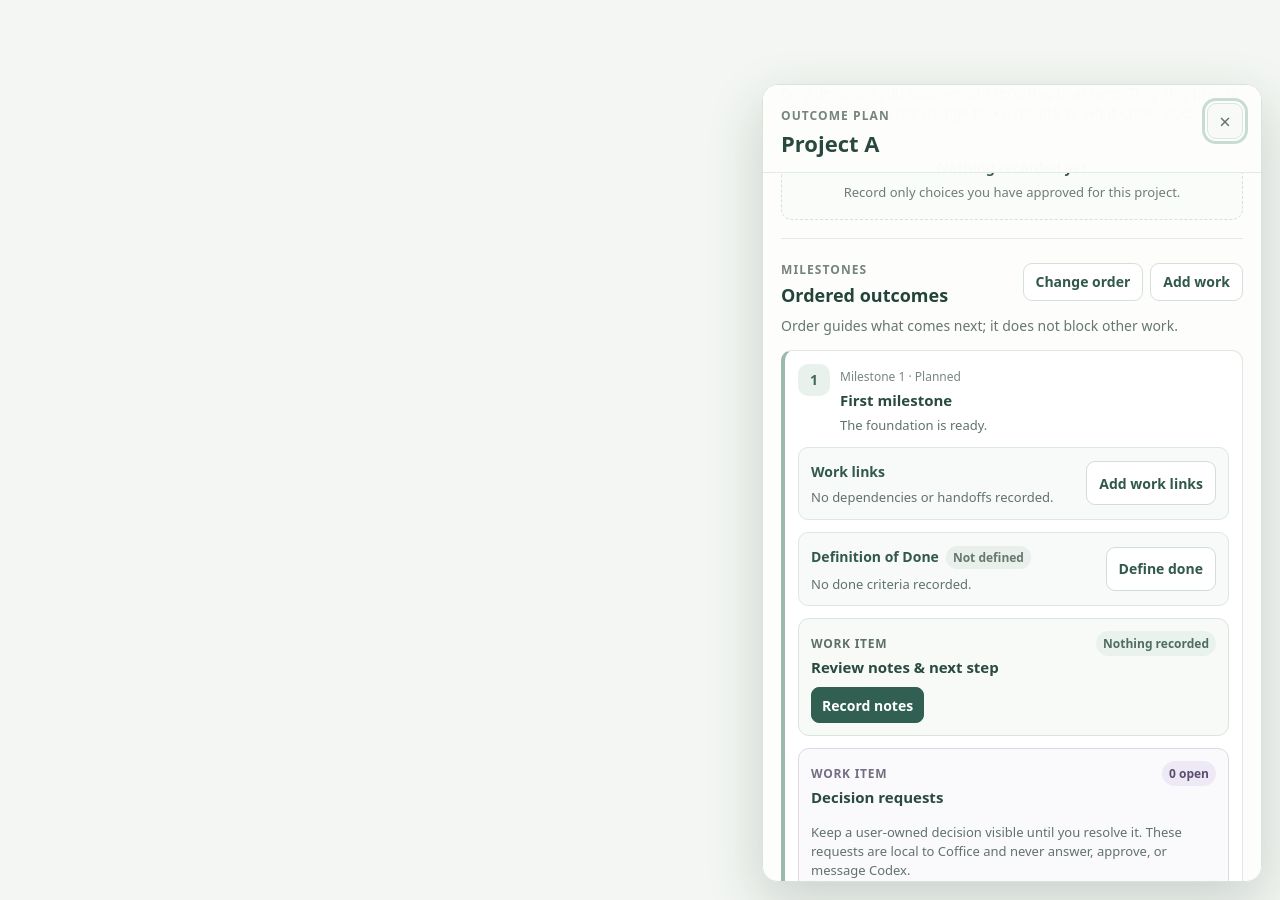
WorkPlannerPanel › preserves a work-link draft across a concurrent relationship conflict
(page scrolled)
What coordinates should you click on to do the following:
click the button "Add work links"
I would click on:
 (1151, 483)
Its box is 1086,461 -> 1216,505.
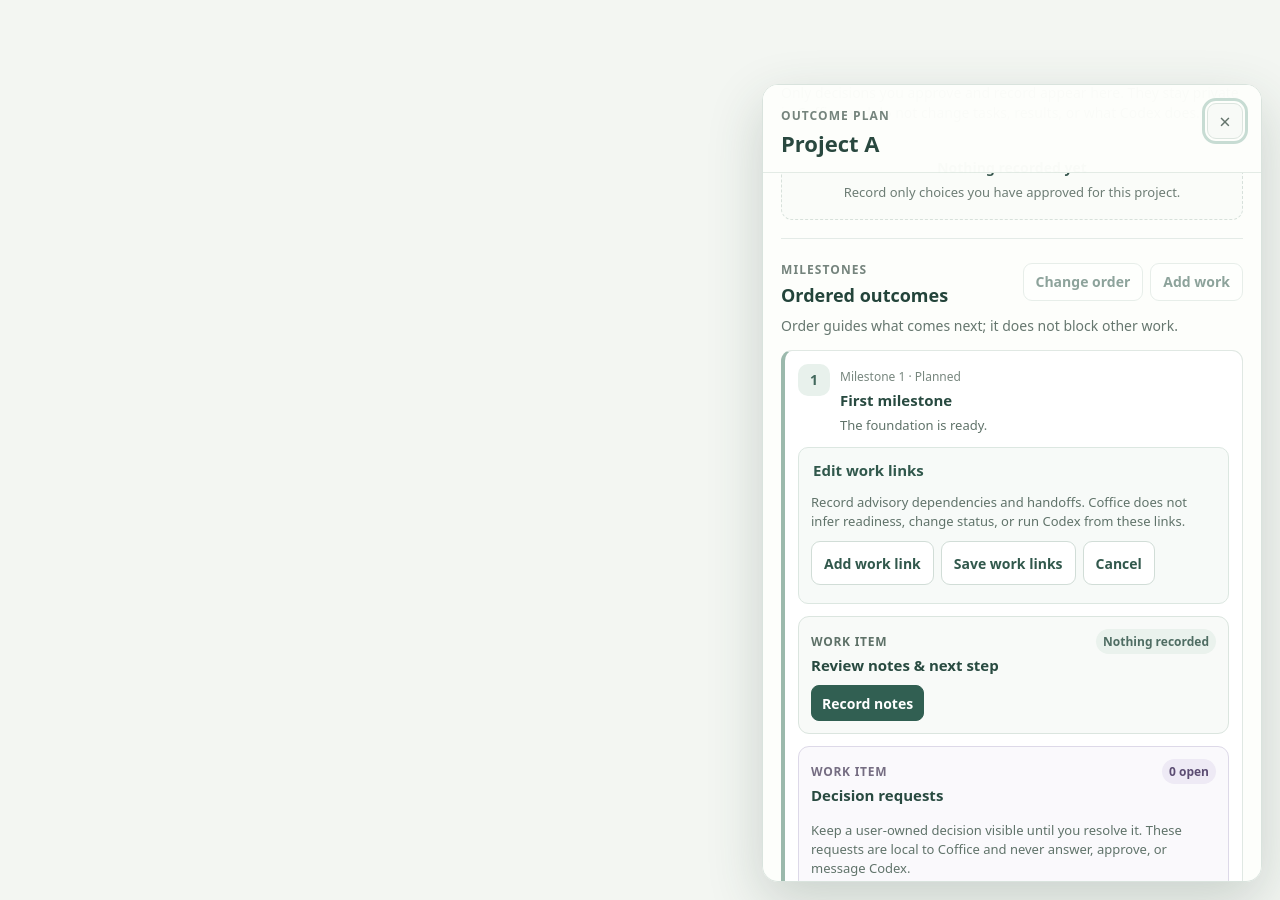
What coordinates should you click on to do the following:
click the button "Add work link"
I would click on:
 (872, 563)
Its box is 811,541 -> 934,585.
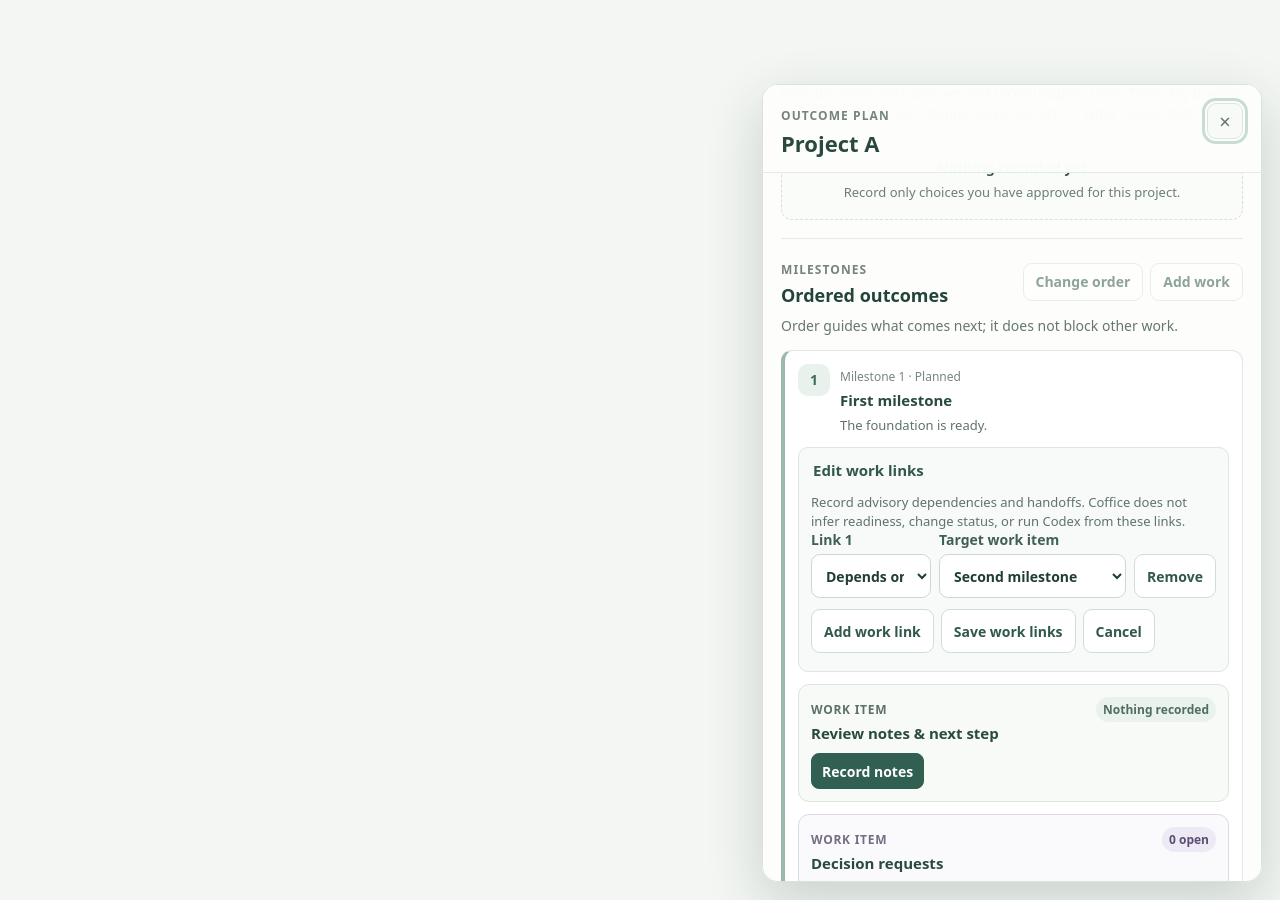
What coordinates should you click on to do the following:
click the button "Save work links"
I would click on:
 (1008, 631)
Its box is 941,609 -> 1076,653.
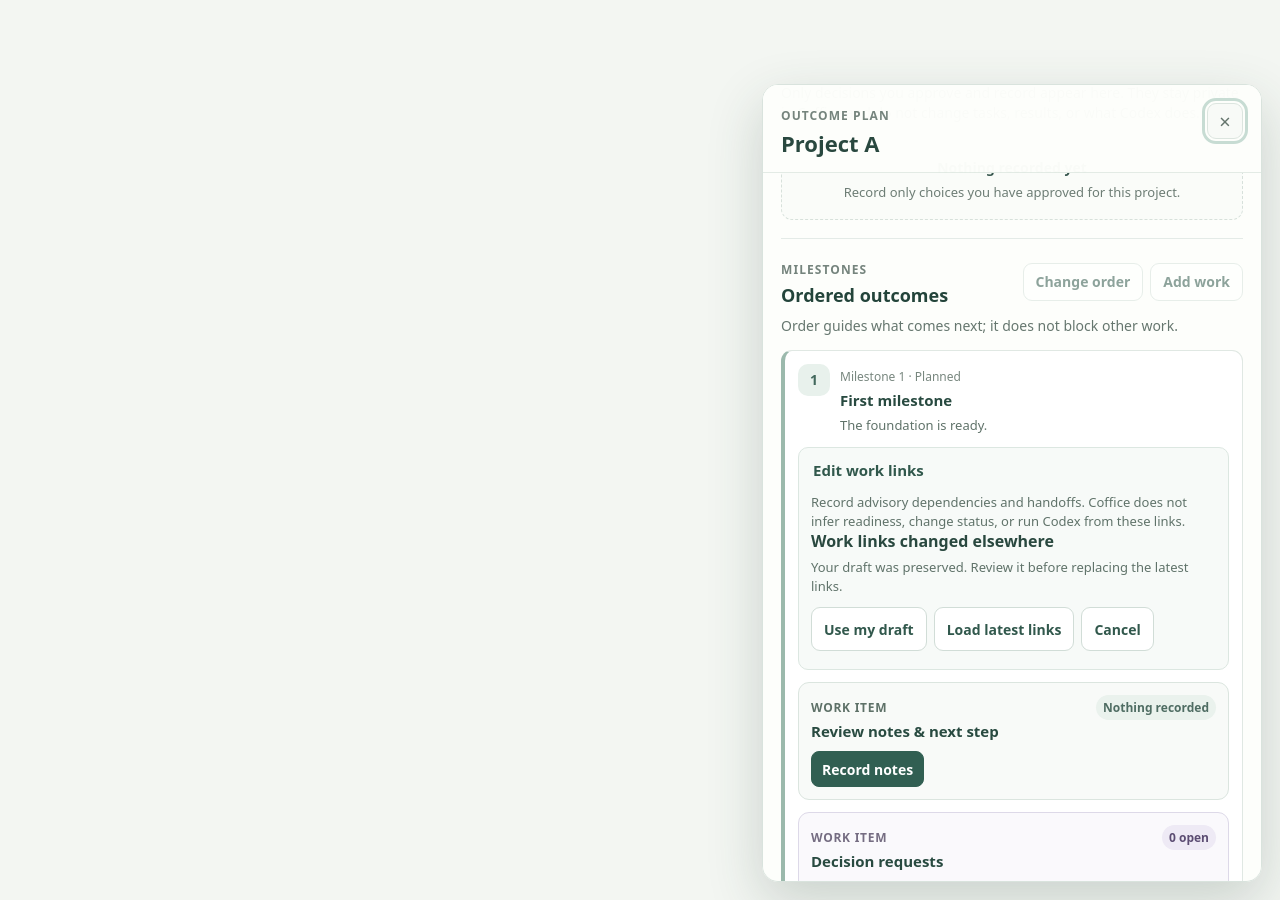
expect the text "Work links changed elsewhere" is shown: met, box 811,530 -> 1054,552
expect the text "Your draft was preserved" is shown: met, box 811,558 -> 1188,595
What coordinates should you click on to do the following:
click the button "Use my draft"
I would click on:
 (869, 629)
Its box is 811,607 -> 927,651.
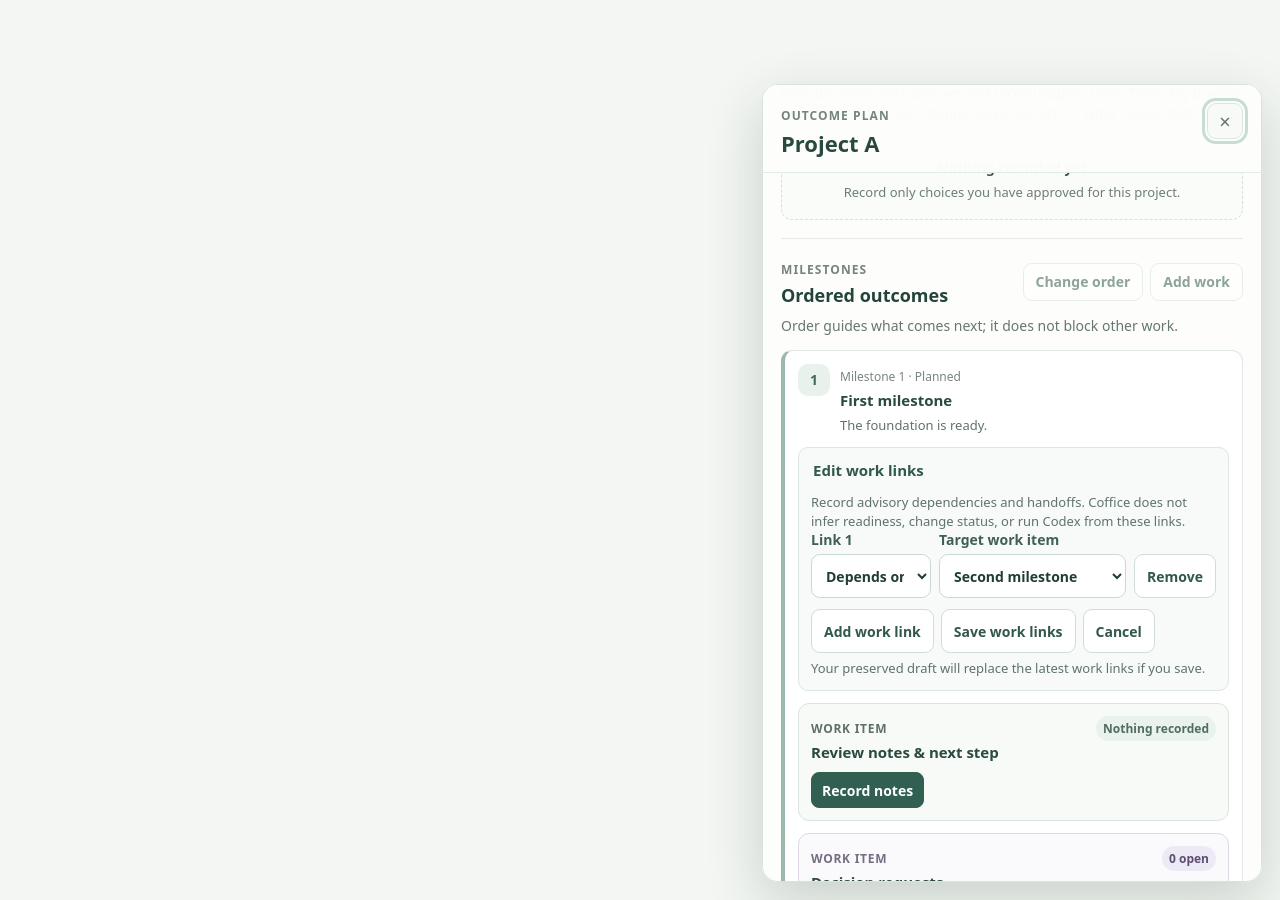
expect the text "Your preserved draft will replace the latest work links if you save." is shown: met, box 811,659 -> 1216,678
What coordinates should you click on to do the following:
click the button "Save work links"
I would click on:
 (1008, 631)
Its box is 941,609 -> 1076,653.
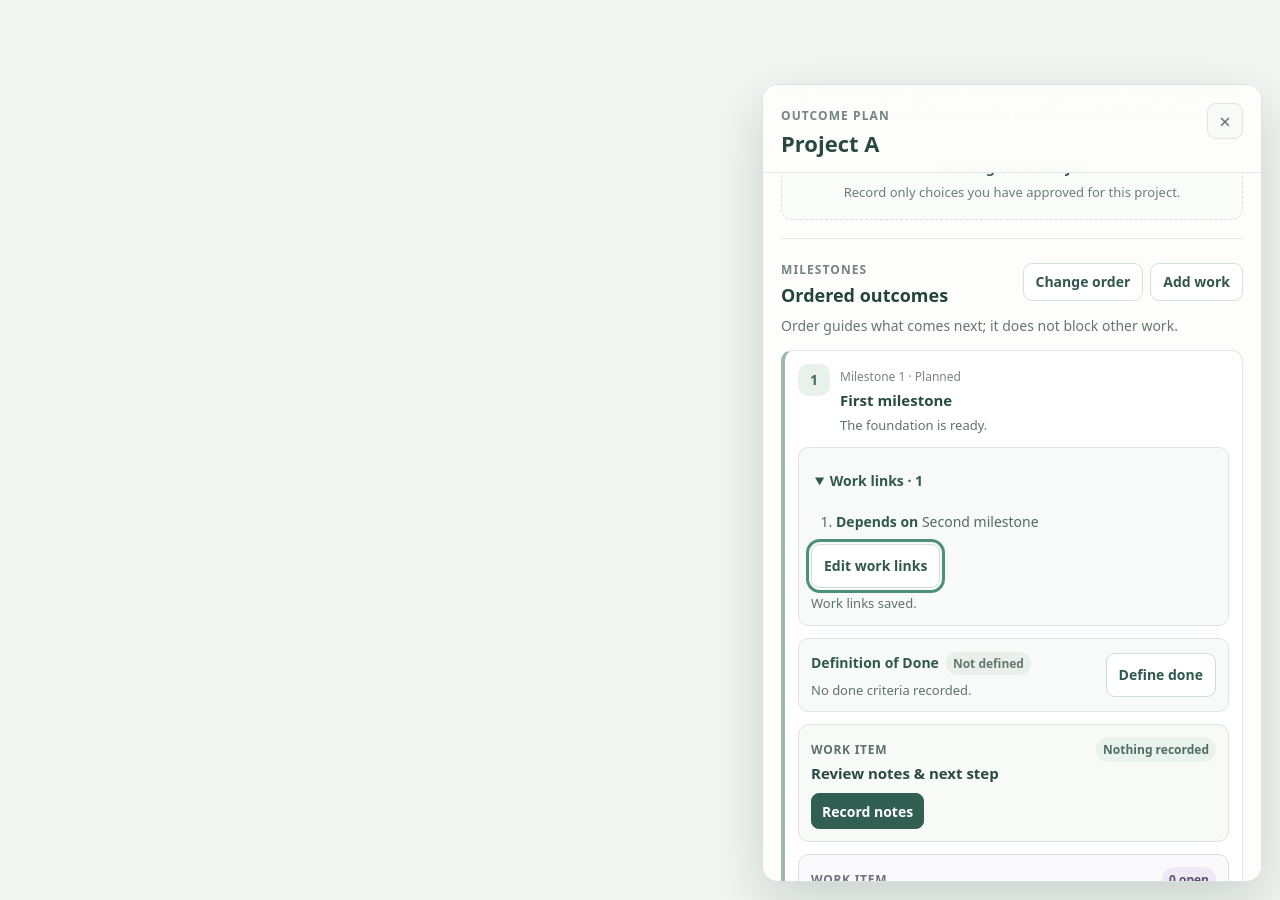
expect the text "Work links saved." is shown: met, box 811,594 -> 917,612
expect the text "Depends on Second milestone" is shown: met, box 836,512 -> 1039,531
